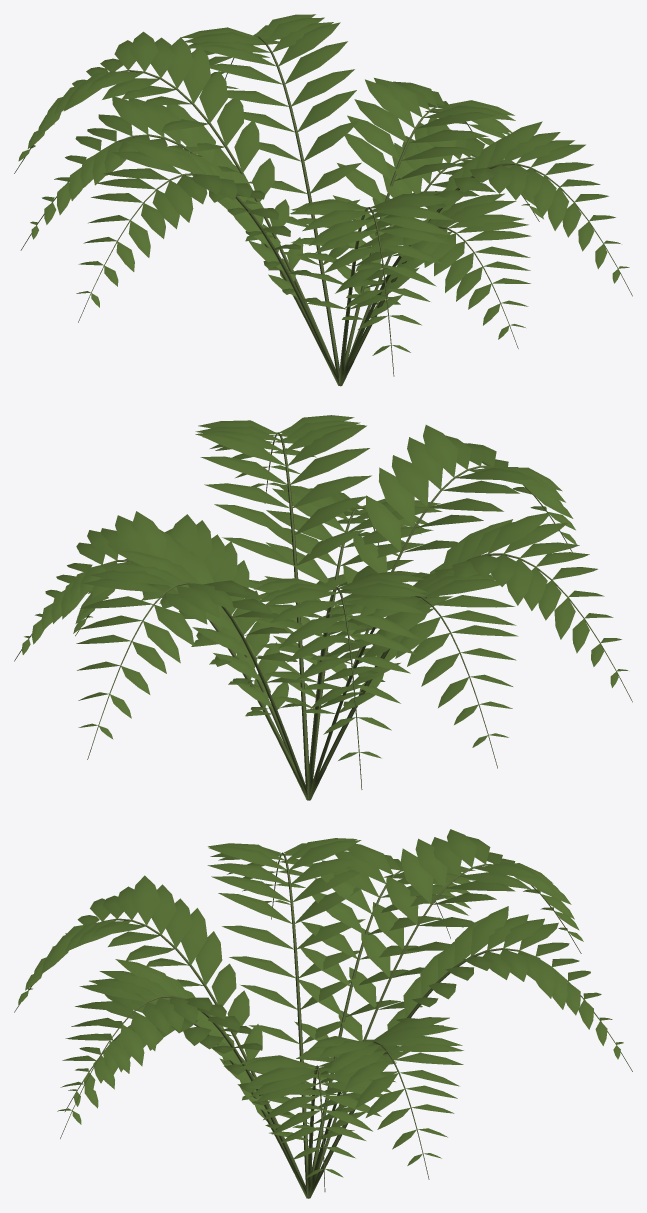
Rendered from fern-lush-lod2.glb.
The picture shows the model from 3 angles, top to bottom: view 1: azimuth 30°, elevation 25°; view 2: azimuth 150°, elevation 25°; view 3: azimuth 270°, elevation 25°; orthographic projection. The views are drawn at different scales.
Visible parts, largest first — view 1: fern-lush-lod2 foliage, fern-lush-lod2 stems; view 2: fern-lush-lod2 foliage, fern-lush-lod2 stems; view 3: fern-lush-lod2 foliage, fern-lush-lod2 stems.
Boxes of the visible parts, left/top/right/bottom form: fern-lush-lod2 foliage: left=18, top=14, right=629, bottom=355; fern-lush-lod2 stems: left=14, top=35, right=632, bottom=386; fern-lush-lod2 foliage: left=22, top=415, right=628, bottom=760; fern-lush-lod2 stems: left=14, top=432, right=632, bottom=800; fern-lush-lod2 foliage: left=18, top=829, right=623, bottom=1178; fern-lush-lod2 stems: left=14, top=852, right=632, bottom=1198.
Bounding box in the file's own units: 1.25 × 0.7027 × 1.38.
